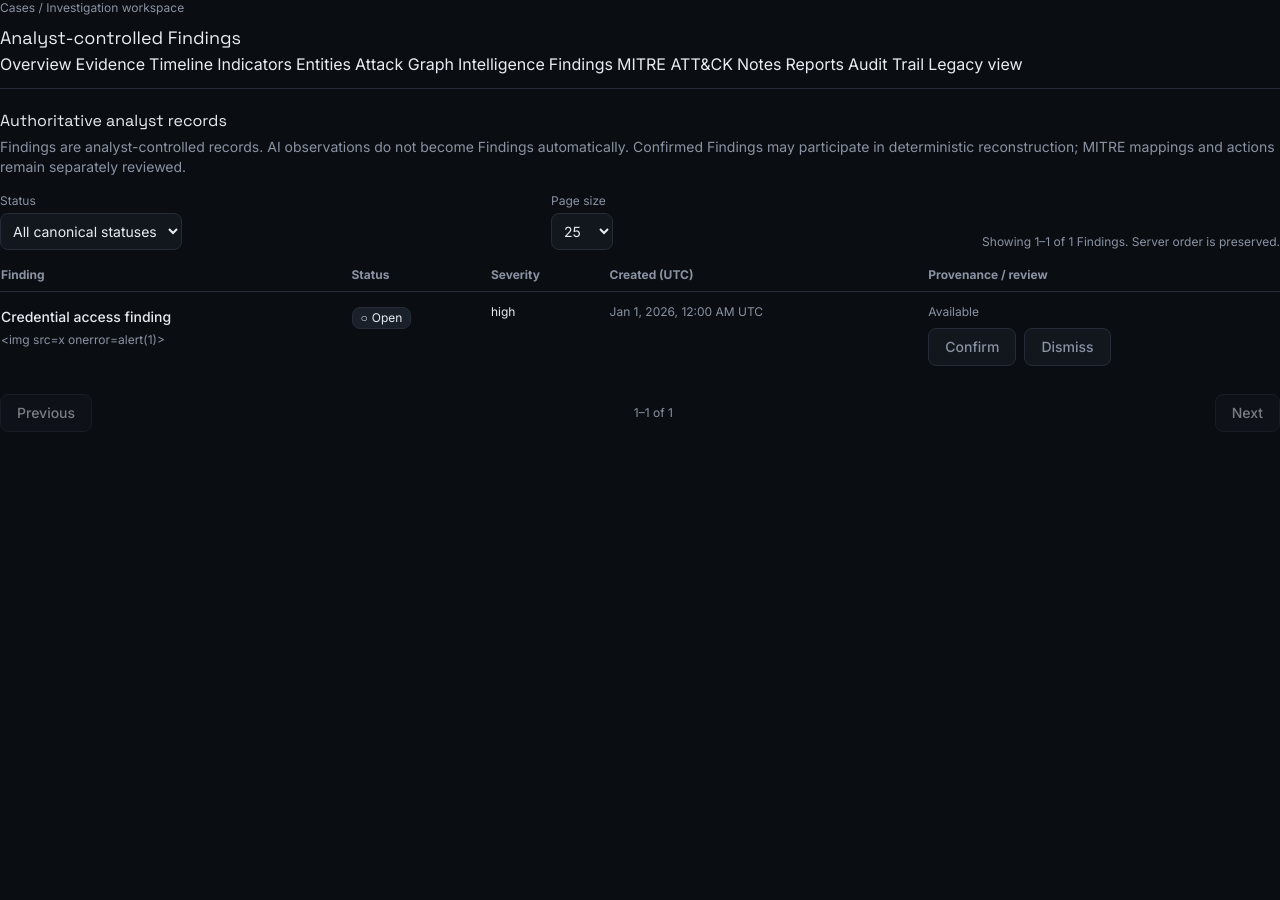
Test: FindingsWorkspace › hides review controls for read-only or inactive users and handles stale review errors
The image size is (1280, 900).
Click the button "Confirm". click: (972, 347)
box: [928,328,1016,366]
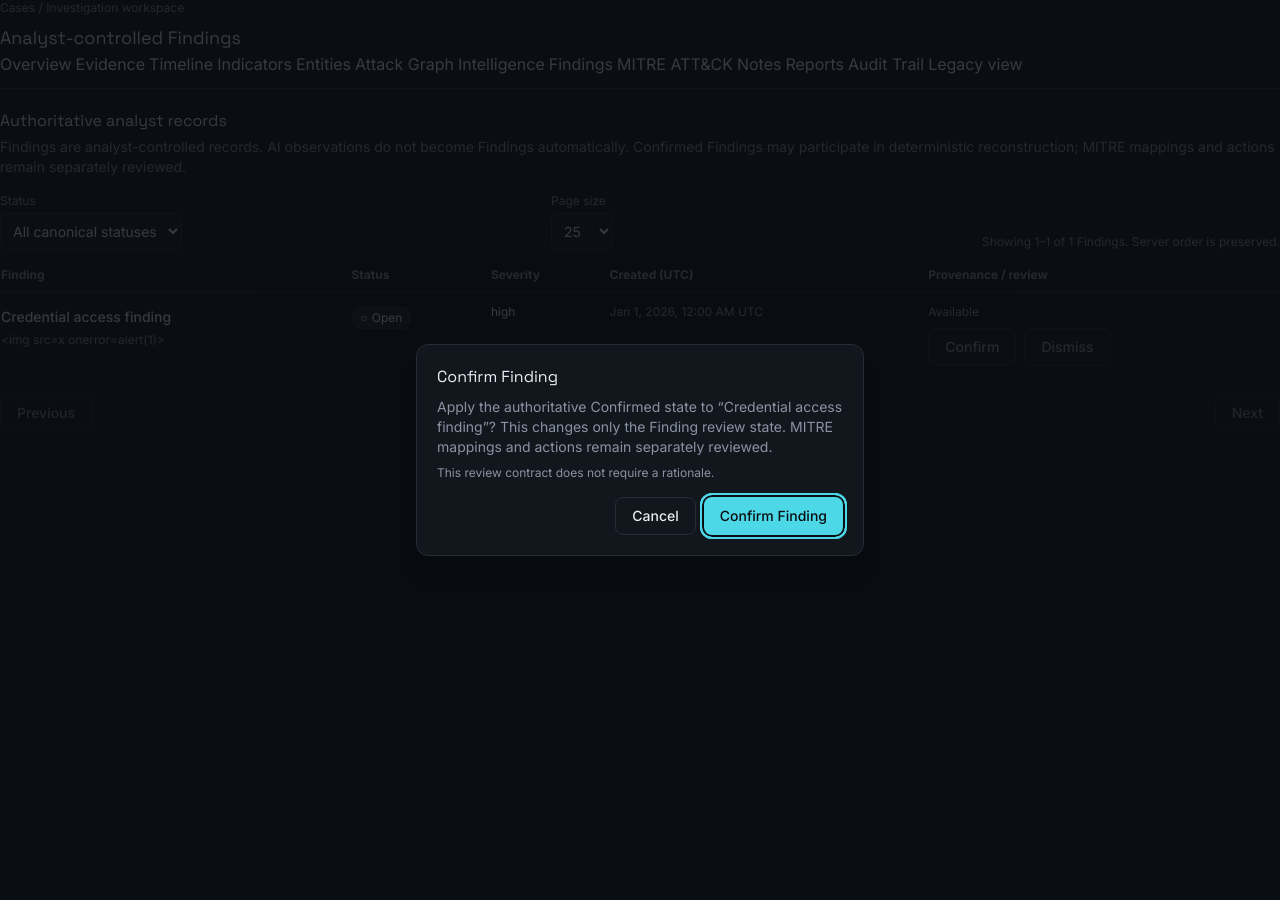
Click the button "Confirm Finding". click: (773, 516)
box: [704,497,843,535]
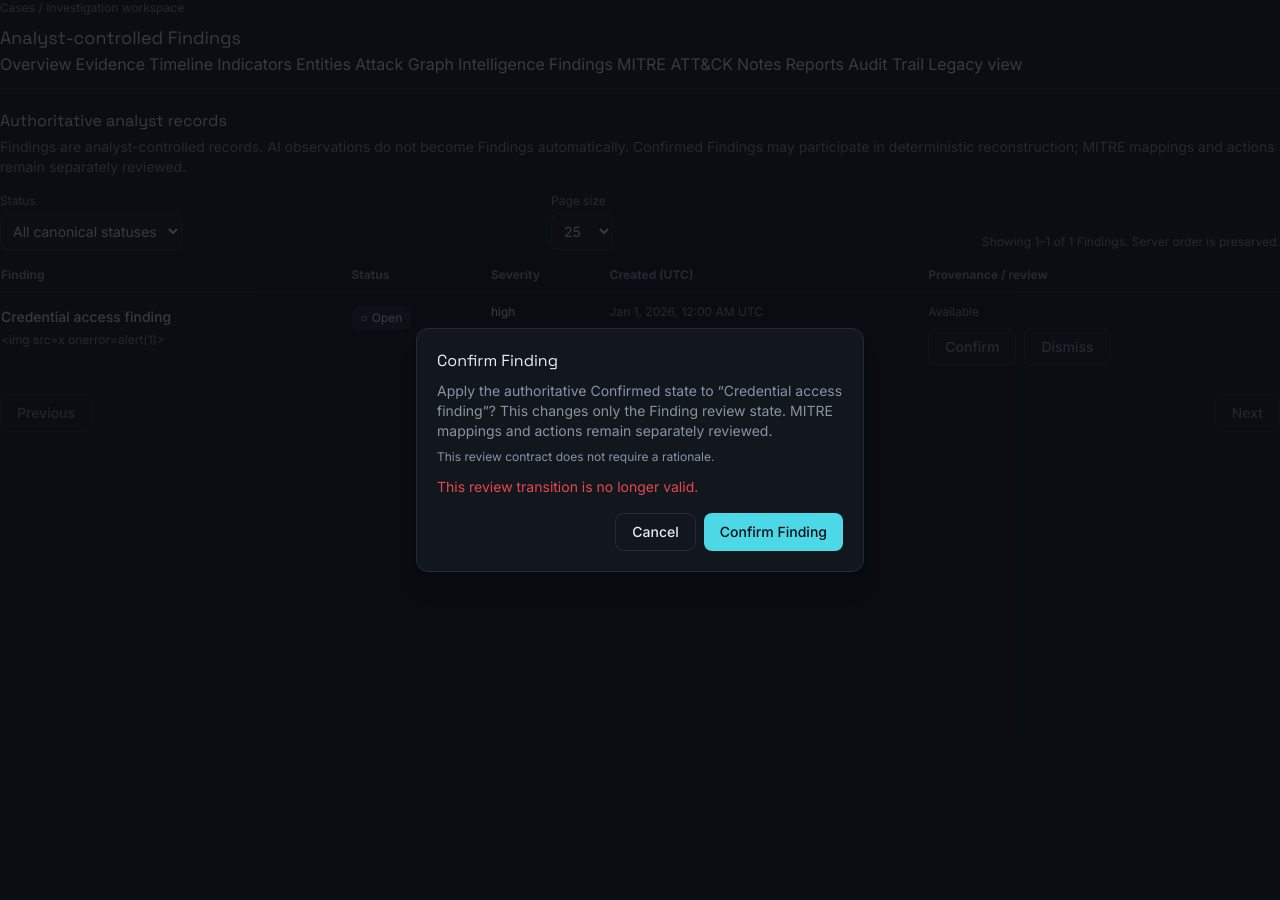
expect the message shows "no longer valid": met, box [437,478,698,495]
